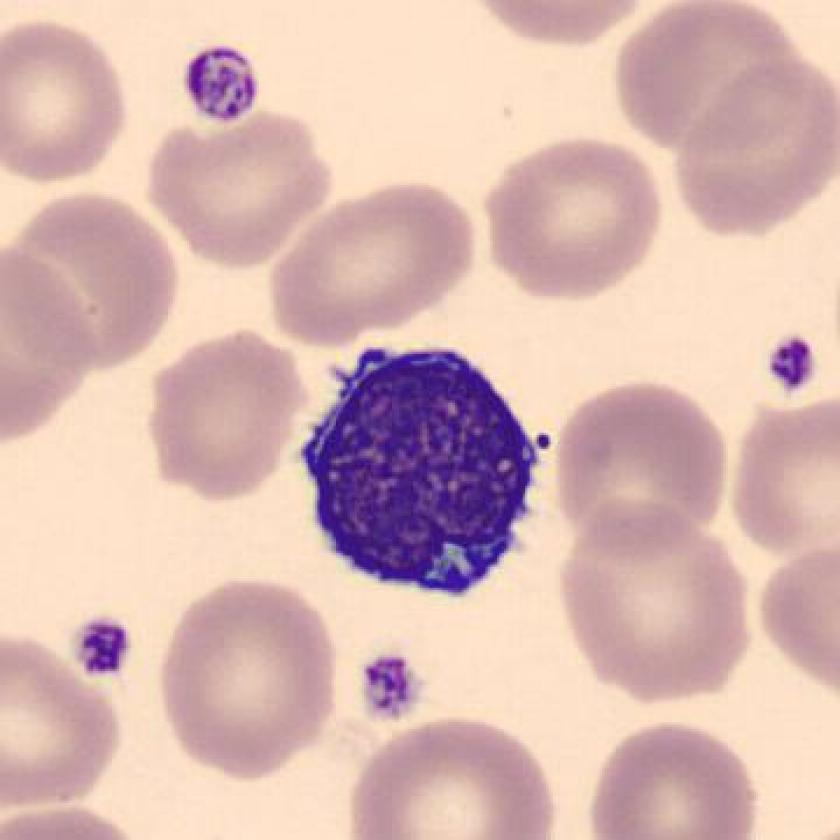lymphocyte: (286, 323, 556, 624)
